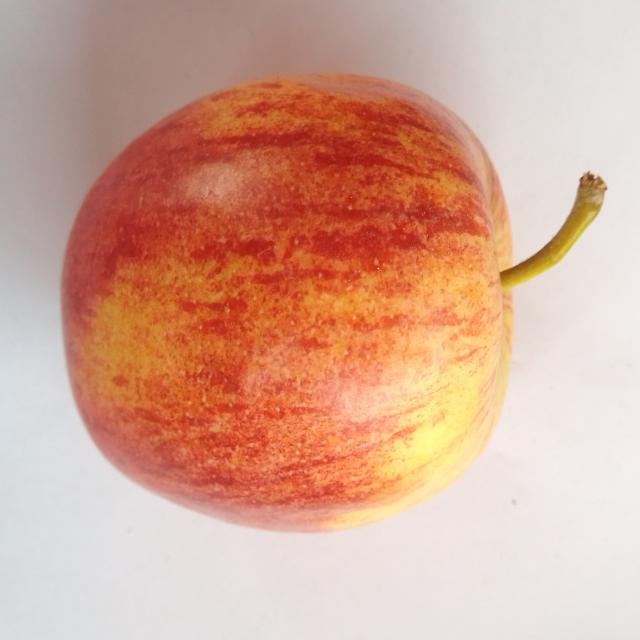apple: (62, 75, 606, 529)
